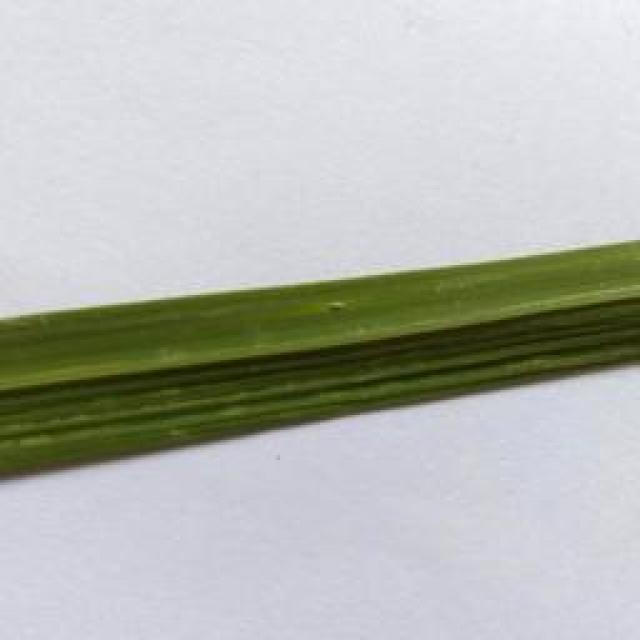Healthy-Plant: (0, 288, 328, 471), (344, 245, 640, 424)
